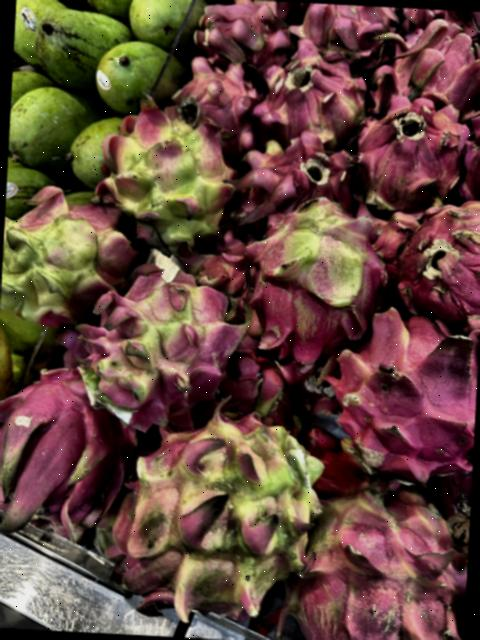buah-naga-belum-matang: (107, 400, 319, 622), (310, 480, 471, 640), (76, 257, 242, 411), (98, 96, 236, 248), (255, 196, 384, 344), (0, 190, 126, 324)
buah-naga-matang: (320, 296, 480, 486), (0, 364, 133, 549), (356, 88, 467, 216), (231, 127, 358, 230), (385, 192, 480, 320), (368, 8, 480, 112), (254, 45, 362, 152), (164, 59, 251, 149), (288, 2, 392, 70), (194, 0, 287, 71), (467, 113, 480, 203)
